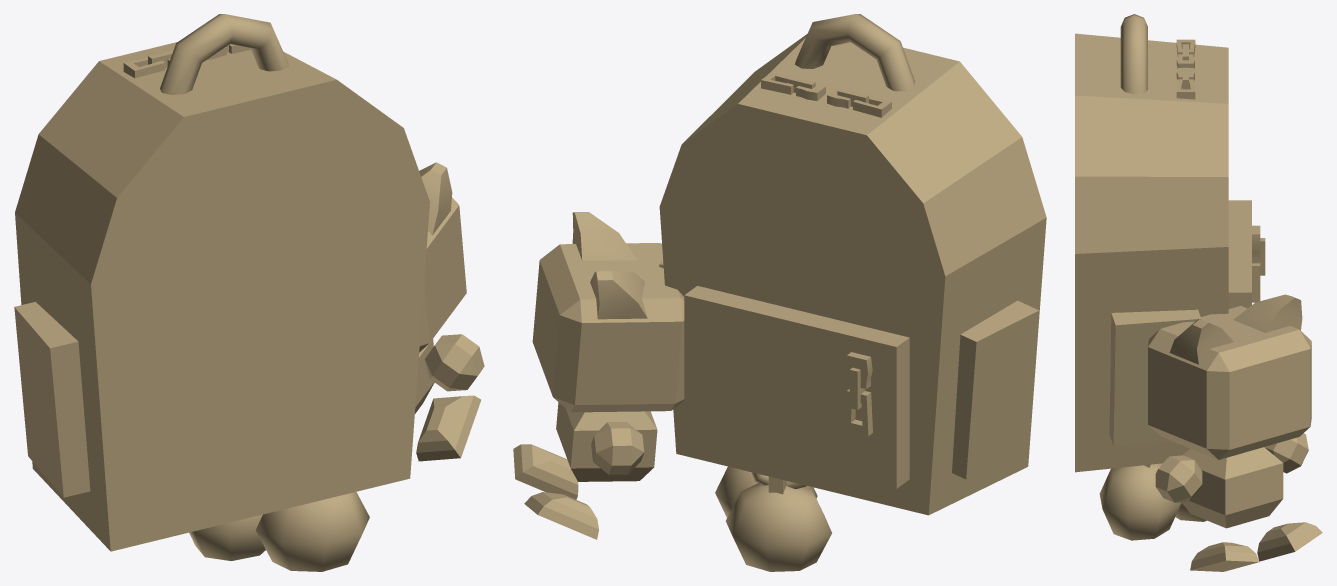
File: SD_AccBack_Reisa01_Texture.fbx
3 views of the same model, side by side, from view 1: azimuth 30°, elevation 25°; view 2: azimuth 150°, elevation 25°; view 3: azimuth 270°, elevation 25° (orthographic). The views are drawn at different scales.
Parts seen in each view (by area): view 1: Object003, Object015, Object030, Object007, Object016, Object023, Object022, Object025, Object018, Object020, Object005; view 2: Object003, Object014, Object016, Object015, Object025, Object007, Object020, Object023, Object017, Object021, Object018, Object024 (+3 smaller); view 3: Object003, Object016, Object019, Object020, Object030, Object014, Object007, Object017, Object022, Object018, Object024, Object023 (+2 smaller).
Part boxes in pixels (bbox=[...]): Object003: bbox=[15, 42, 429, 551]; Object015: bbox=[14, 302, 90, 497]; Object030: bbox=[255, 492, 369, 571]; Object007: bbox=[160, 14, 288, 94]; Object016: bbox=[419, 197, 466, 352]; Object023: bbox=[416, 395, 481, 461]; Object022: bbox=[425, 334, 484, 391]; Object025: bbox=[189, 514, 265, 560]; Object018: bbox=[419, 162, 452, 235]; Object020: bbox=[415, 339, 434, 413]; Object005: bbox=[123, 57, 165, 78]; Object003: bbox=[659, 34, 1046, 515]; Object014: bbox=[684, 286, 909, 488]; Object016: bbox=[532, 243, 684, 412]; Object015: bbox=[952, 300, 1039, 479]; Object025: bbox=[726, 483, 831, 571]; Object007: bbox=[795, 14, 915, 91]; Object020: bbox=[556, 402, 657, 481]; Object023: bbox=[513, 444, 578, 499]; Object017: bbox=[590, 271, 647, 319]; Object021: bbox=[591, 422, 644, 474]; Object018: bbox=[572, 212, 636, 260]; Object024: bbox=[524, 492, 598, 539]; Object003: bbox=[1075, 33, 1228, 472]; Object016: bbox=[1148, 306, 1311, 459]; Object019: bbox=[1109, 309, 1201, 446]; Object020: bbox=[1182, 447, 1283, 528]; Object030: bbox=[1099, 463, 1181, 540]; Object014: bbox=[1228, 200, 1251, 308]; Object007: bbox=[1120, 14, 1147, 94]; Object017: bbox=[1233, 294, 1302, 332]; Object022: bbox=[1155, 455, 1202, 502]; Object018: bbox=[1169, 319, 1233, 364]; Object024: bbox=[1257, 522, 1322, 561]; Object023: bbox=[1190, 542, 1259, 571].
Bounding box in the file's own units: 13.2 × 14.76 × 6.84.
